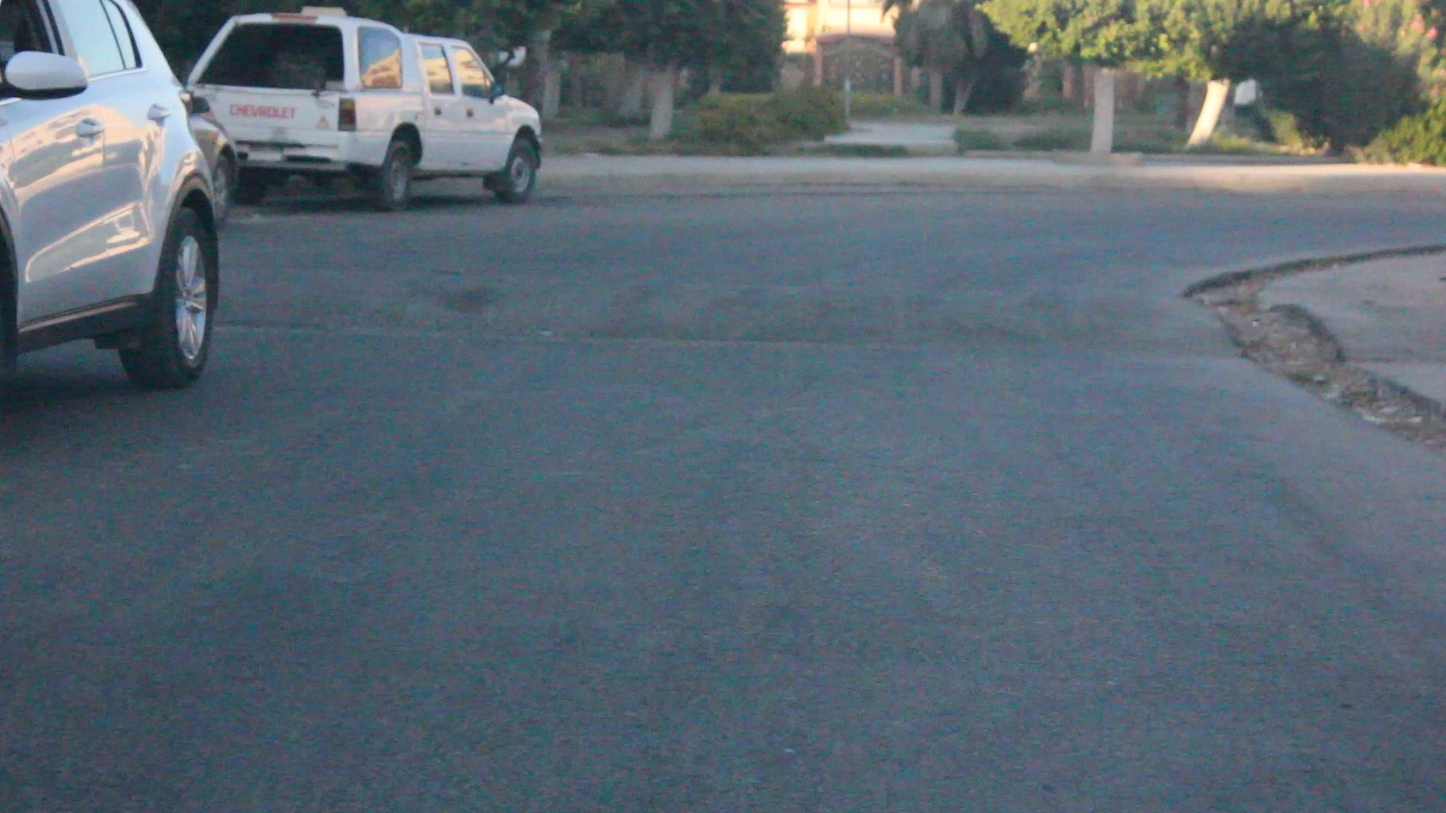Bump: (226, 263, 1235, 356)
